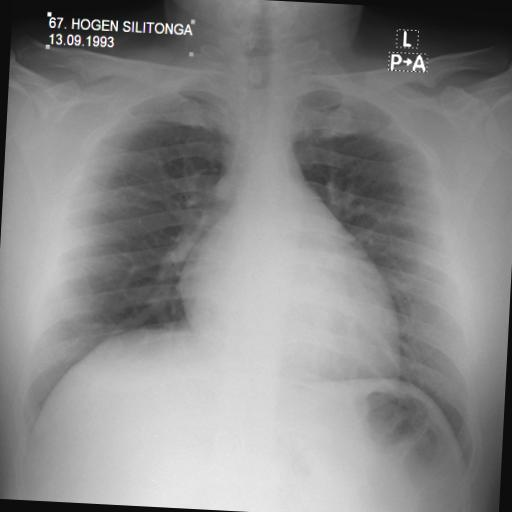kardiomegali: (10, 36, 504, 475)
